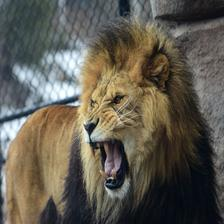lions: (0, 10, 224, 224)
